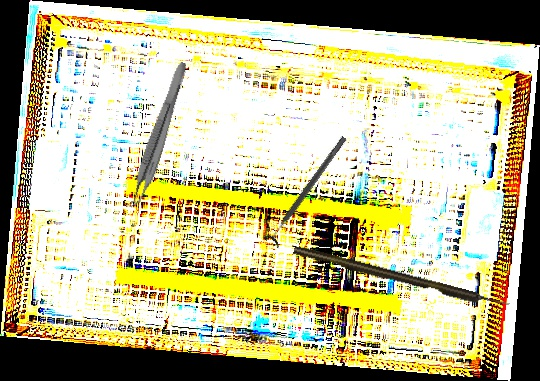Fixation Ring: (261, 131, 354, 250)
Hook Surgical: (292, 243, 511, 313)
Tissue Forceps: (124, 58, 190, 212)
